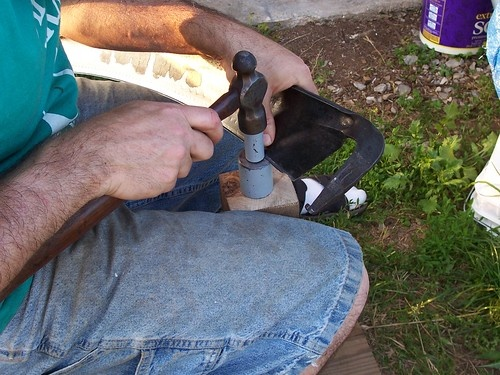hammer: (193, 50, 274, 142)
